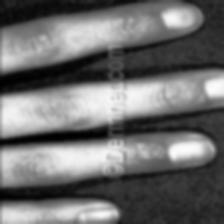Unclassified: (18, 153, 72, 189), (11, 25, 77, 53), (25, 99, 80, 127), (0, 203, 70, 224), (130, 143, 176, 171), (116, 6, 160, 32), (152, 90, 196, 114)
